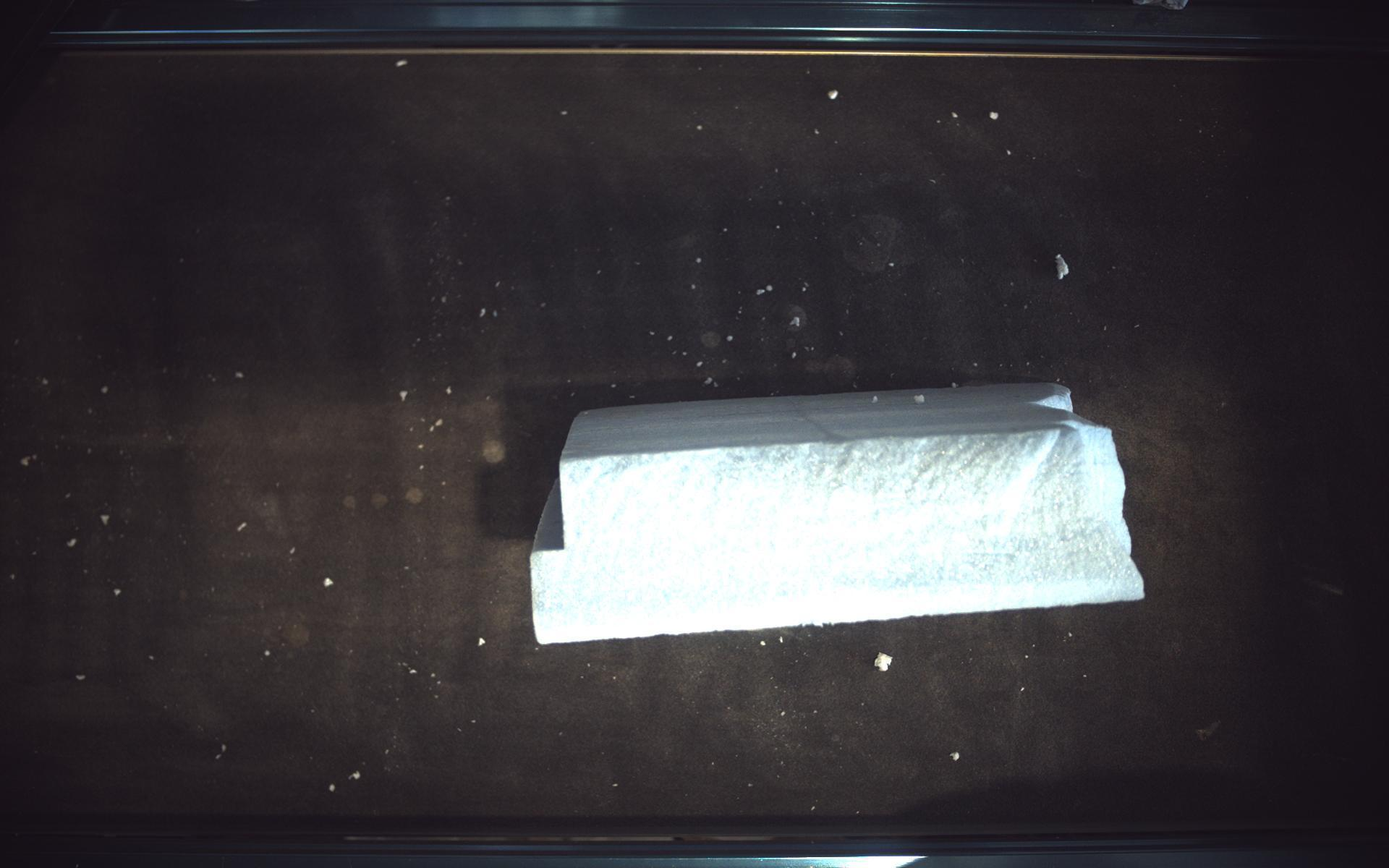foam: (531, 383, 1147, 644)
